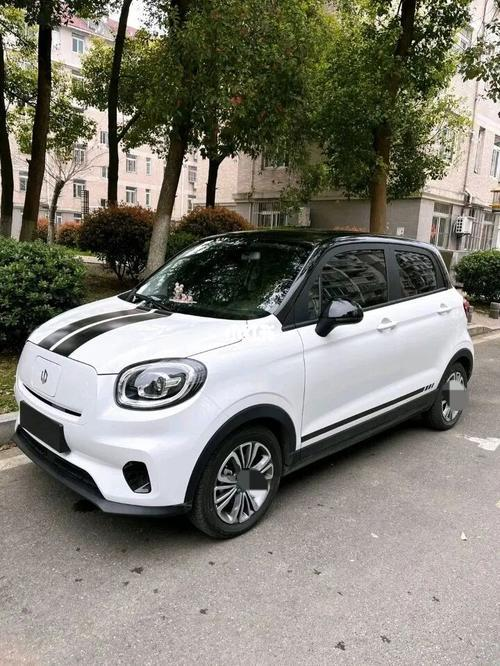LEAPMOTOR: (40, 368, 48, 385)
